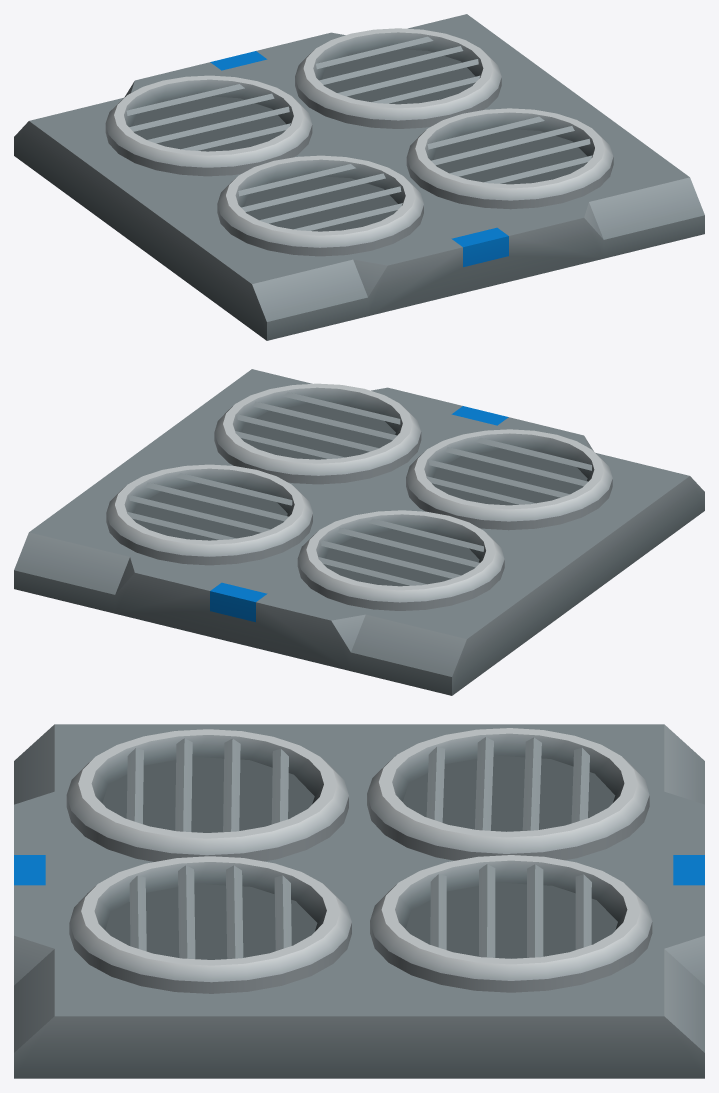
File: Ventilation_018.fbx
3 renders of one model, top to bottom at view 1: azimuth 30°, elevation 25°; view 2: azimuth 150°, elevation 25°; view 3: azimuth 270°, elevation 25°, orthographic. The views are drawn at different scales.
Parts seen in each view (by area): view 1: Ventilation_018; view 2: Ventilation_018; view 3: Ventilation_018.
Boxes of the visible parts, x1,y1,x2,y2 form: Ventilation_018: (14,14,704,340); Ventilation_018: (14,369,704,695); Ventilation_018: (14,724,704,1078).
Size of the model in its own units: 100 by 100 by 13.73.
